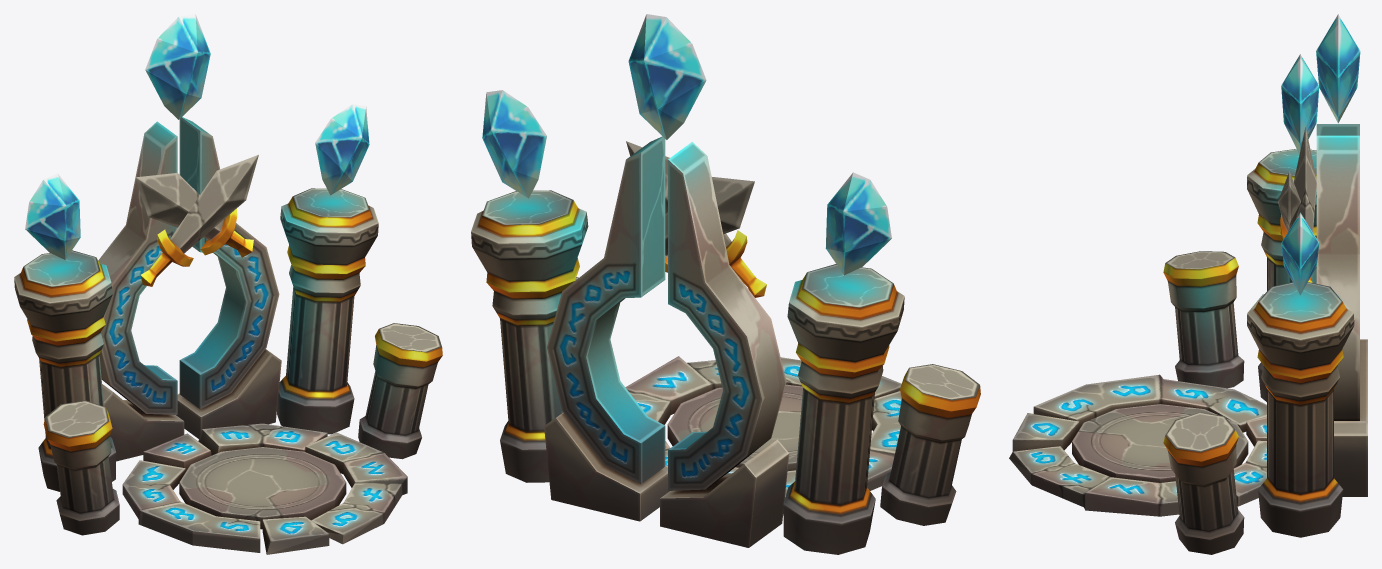
The model's file is building_19.FBX.
3 views of the same model, side by side, from view 1: azimuth 30°, elevation 25°; view 2: azimuth 150°, elevation 25°; view 3: azimuth 270°, elevation 25° (orthographic). The views are drawn at different scales.
Parts seen in each view (by area): view 1: Cylinder001; view 2: Cylinder001; view 3: Cylinder001.
Part boxes in pixels (left/top/right/bottom): Cylinder001: left=14, top=14, right=442, bottom=554; Cylinder001: left=471, top=14, right=980, bottom=554; Cylinder001: left=1009, top=14, right=1367, bottom=554.
Size of the model in its own units: 643 by 669 by 482.
Materials: 1 (1 with a texture image).
